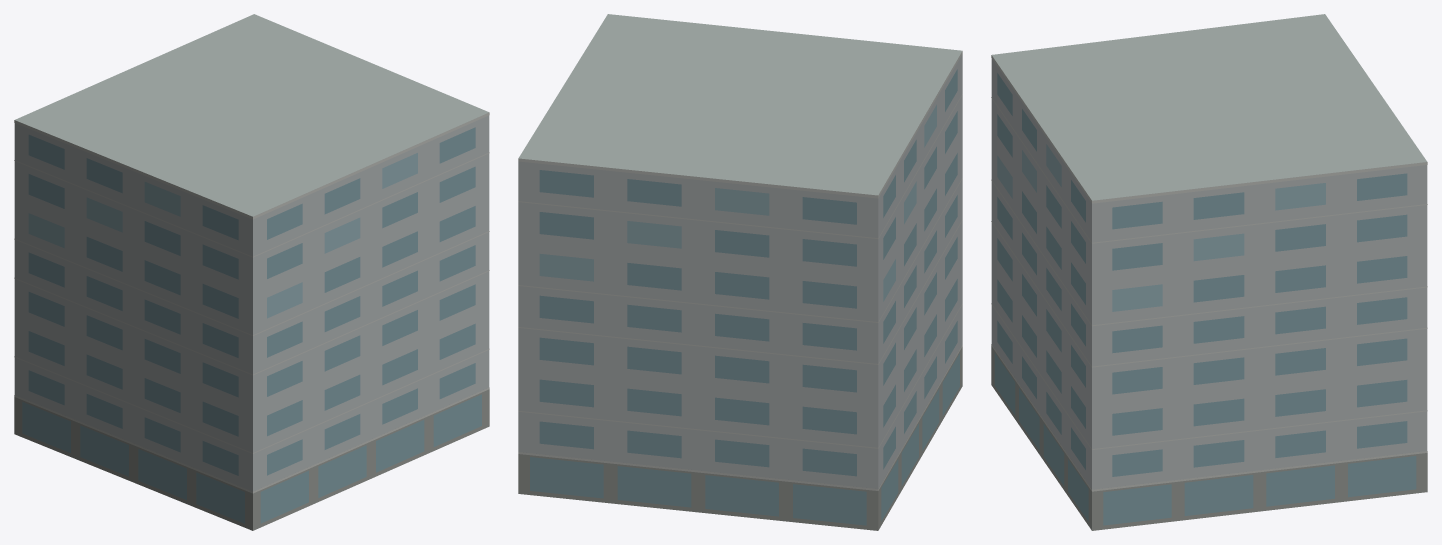
Rendered from survey-upis-33031618.glb.
3 renders of one model, left to right at view 1: azimuth 30°, elevation 25°; view 2: azimuth 150°, elevation 25°; view 3: azimuth 270°, elevation 25°, orthographic. The views are drawn at different scales.
Parts seen in each view (by area): view 1: survey-upis-33031618.tmp; view 2: survey-upis-33031618.tmp; view 3: survey-upis-33031618.tmp.
Boxes of the visible parts, x1,y1,x2,y2 form: survey-upis-33031618.tmp: (14, 14, 489, 530); survey-upis-33031618.tmp: (518, 14, 962, 530); survey-upis-33031618.tmp: (991, 14, 1427, 530).
Bounding box in the file's own units: 32.53 × 26.8 × 32.1.
